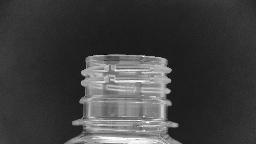No Cap: (67, 47, 183, 131)
